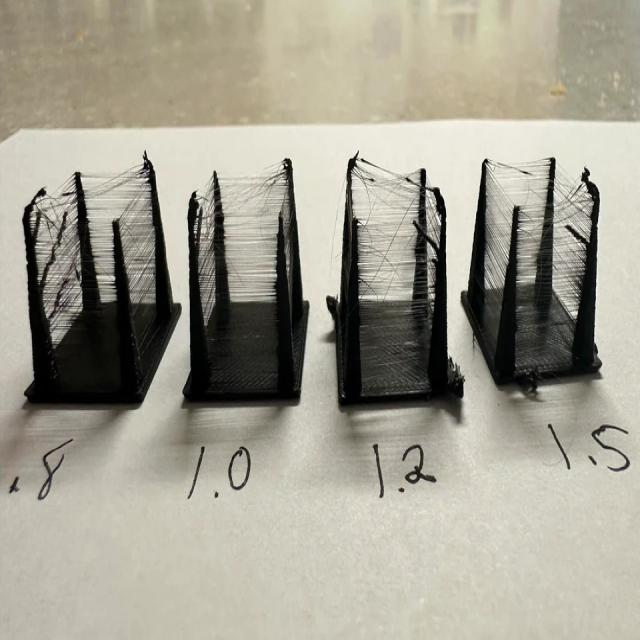Stringing: (27, 170, 82, 349), (352, 157, 419, 303), (82, 167, 152, 300), (487, 160, 550, 294), (119, 173, 163, 363), (220, 179, 285, 304), (31, 216, 86, 351), (552, 161, 597, 321), (484, 165, 514, 346), (194, 178, 216, 330), (89, 219, 115, 302), (426, 176, 439, 313), (280, 176, 292, 306)
